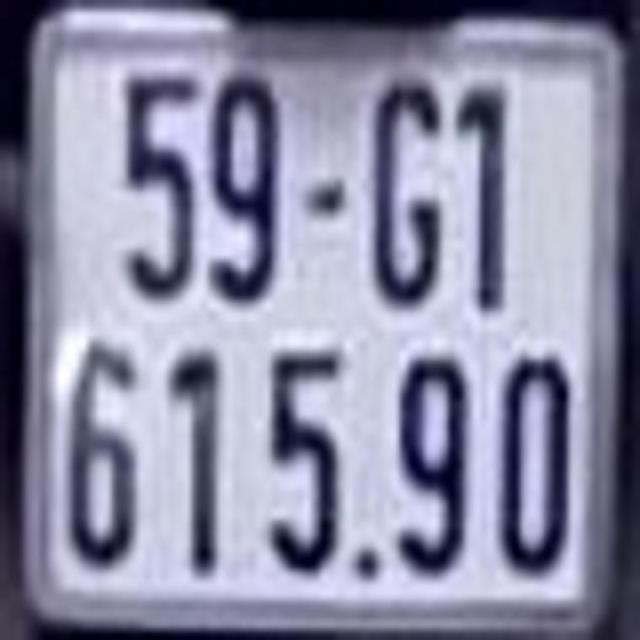0: (506, 352, 570, 581)
1: (171, 340, 222, 574), (462, 78, 506, 310)
5: (267, 347, 341, 576), (124, 67, 194, 296)
6: (69, 336, 139, 562)
9: (398, 352, 468, 578), (216, 75, 276, 303)
G: (378, 77, 444, 300)
